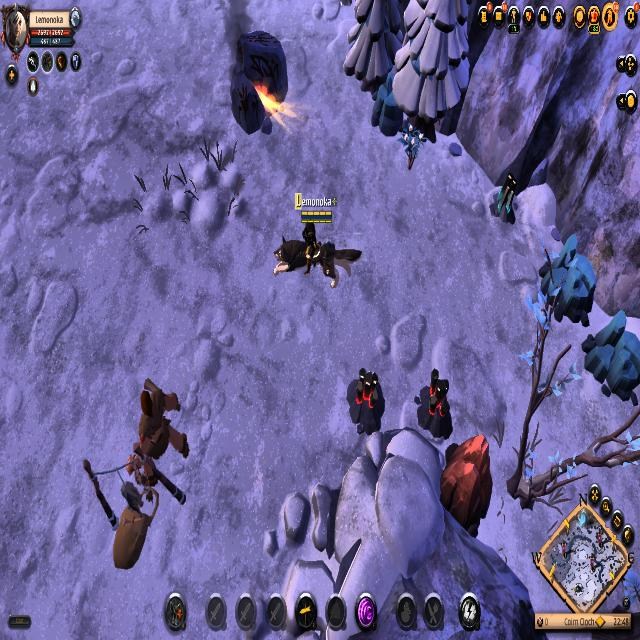fiber tier 4: (400, 122, 425, 172)
ore tier 4: (489, 169, 519, 232)
ore tier 5: (416, 368, 457, 443), (347, 362, 388, 436)
rock tier 4: (583, 312, 640, 406), (540, 235, 596, 328)
rock tier 5: (435, 432, 496, 536)
